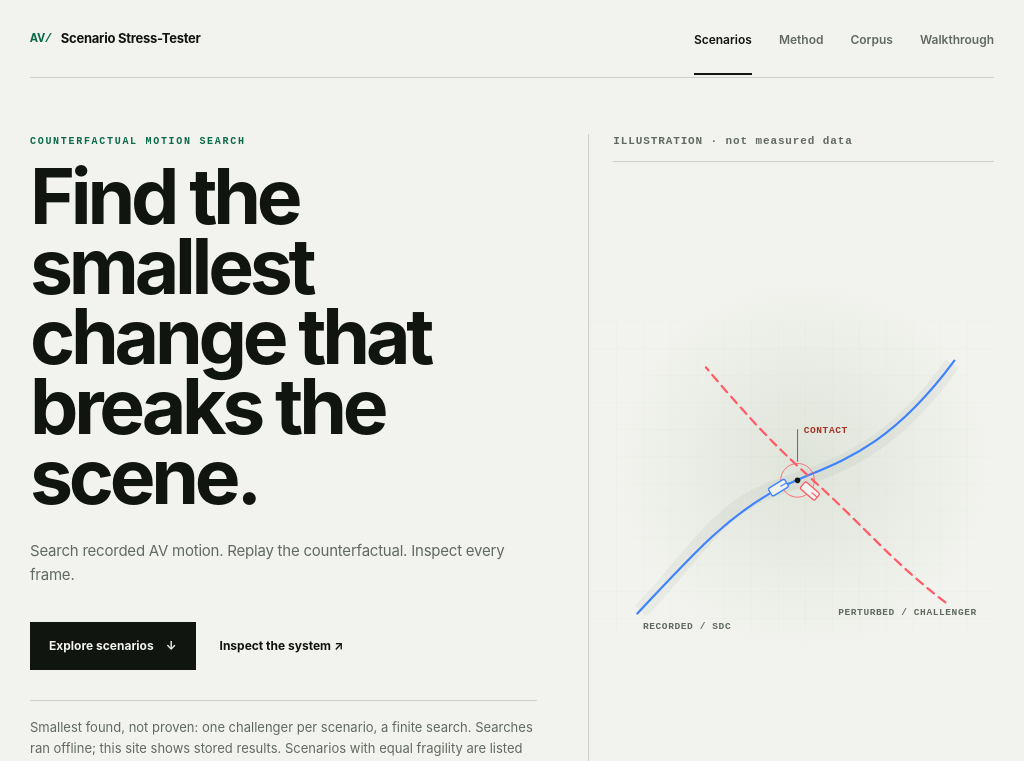
Test: the navigation to it › opens the page from the list without leaving the app
The image size is (1024, 761).
Step 1. Click the link "Method" → (801, 39), box [779,32,824,47]
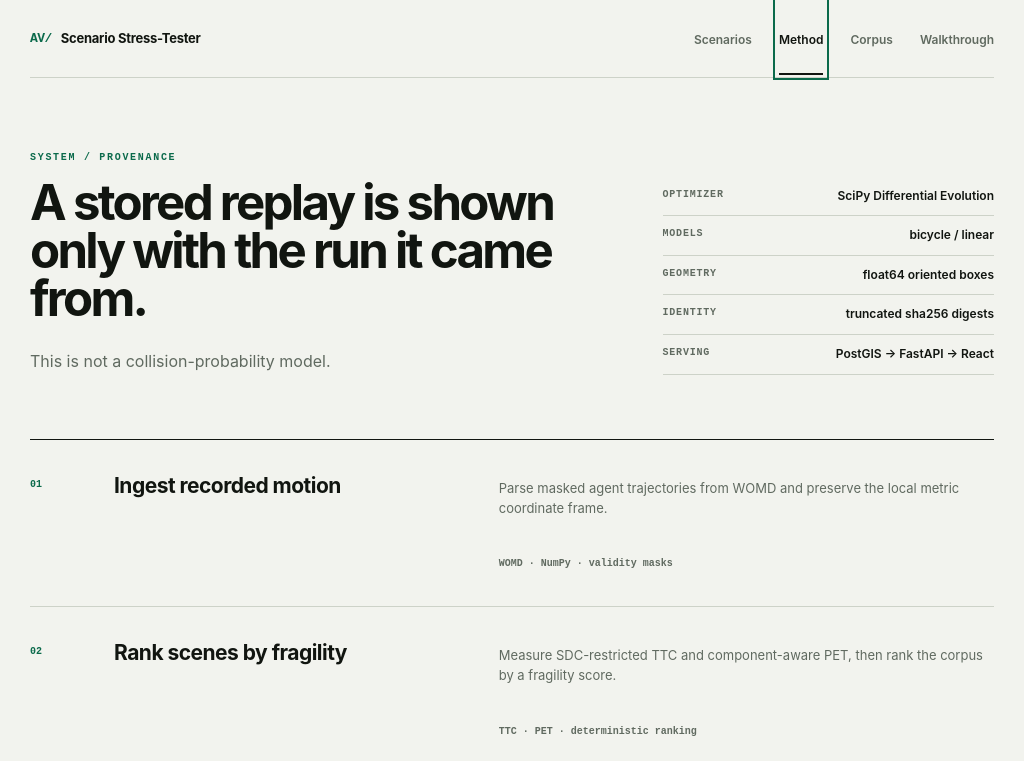
Expected: the heading "A stored replay is shown only with the run it came from." is shown, [30,178,582,322]
